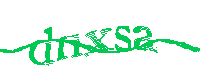a: (132, 25, 159, 53)
d: (29, 27, 53, 67)
n: (55, 33, 83, 60)
s: (114, 24, 132, 52)
x: (85, 28, 112, 56)
